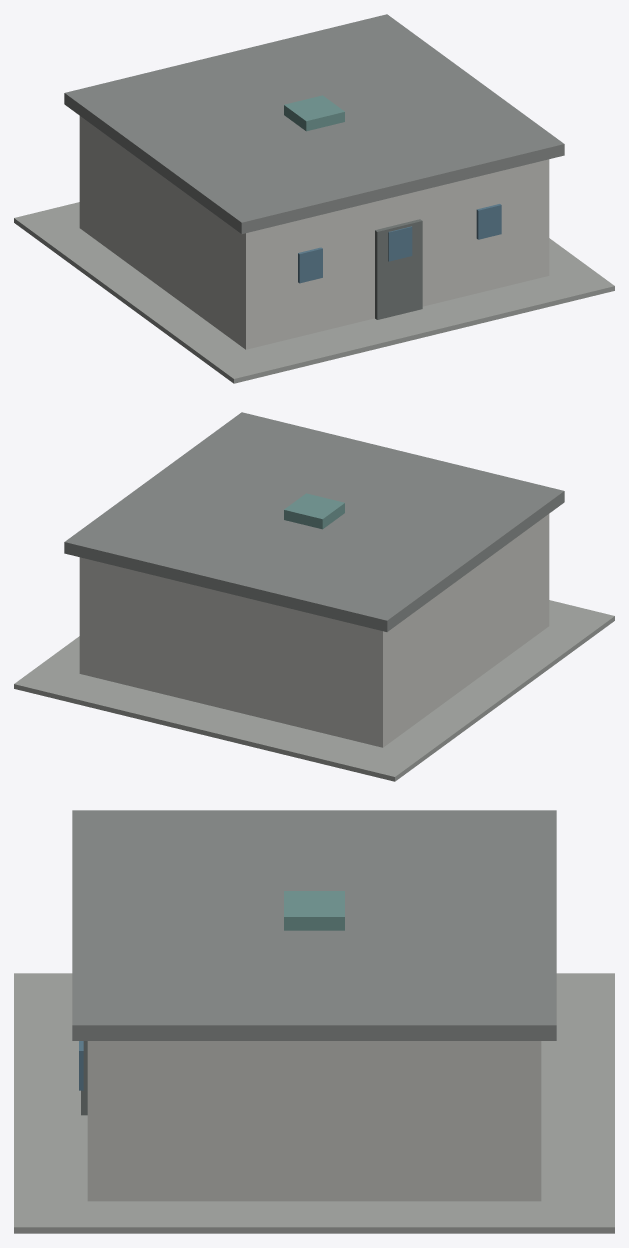
Rendered from lyceum.glb.
3 renders of one model, top to bottom at view 1: azimuth 30°, elevation 25°; view 2: azimuth 150°, elevation 25°; view 3: azimuth 270°, elevation 25°, orthographic. The views are drawn at different scales.
Visible parts, largest first — view 1: lyceum; view 2: lyceum; view 3: lyceum.
Boxes of the visible parts, x1=… form: lyceum: x1=14, y1=14, x2=614, y2=383; lyceum: x1=14, y1=412, x2=614, y2=781; lyceum: x1=14, y1=810, x2=614, y2=1233.
Bounding box in the file's own units: 5.88 × 2.19 × 5.88.
